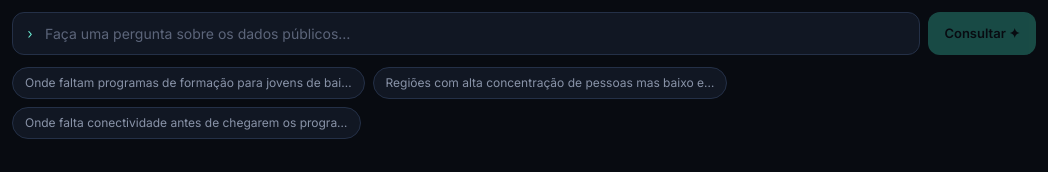
AIQueryBar › os exemplos preenchem o campo (modo normal) e não aparecem em modo compacto
The image size is (1048, 172).
What coordinates should you click on to do the following:
click the button "Onde faltam programas de formação para jovens de bai…"
I would click on:
 (188, 83)
Its box is [12,67,365,99].
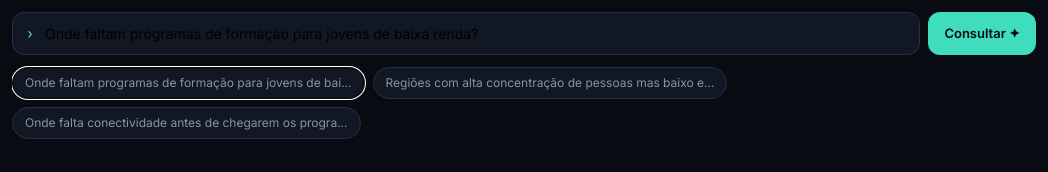
Now the field with placeholder "Faça uma pergunta sobre os dados públicos…" holds "Onde faltam programas de formação para jovens de baixa renda?", box [12,12,920,55]
